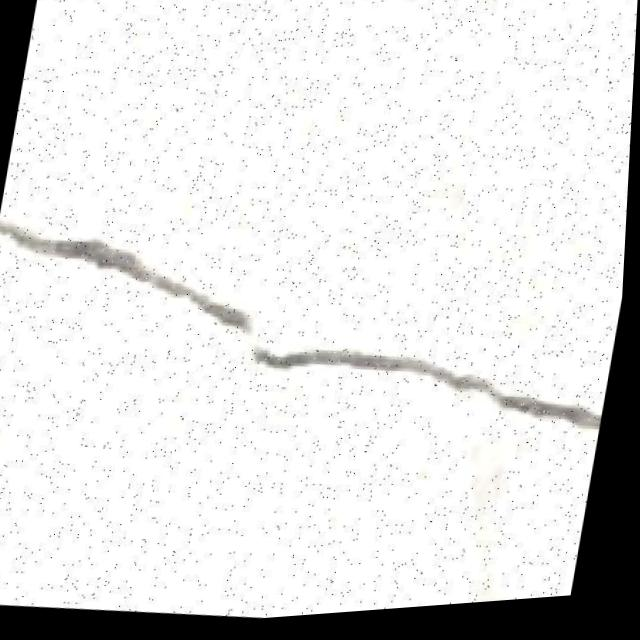Crack: (0, 173, 631, 491)
